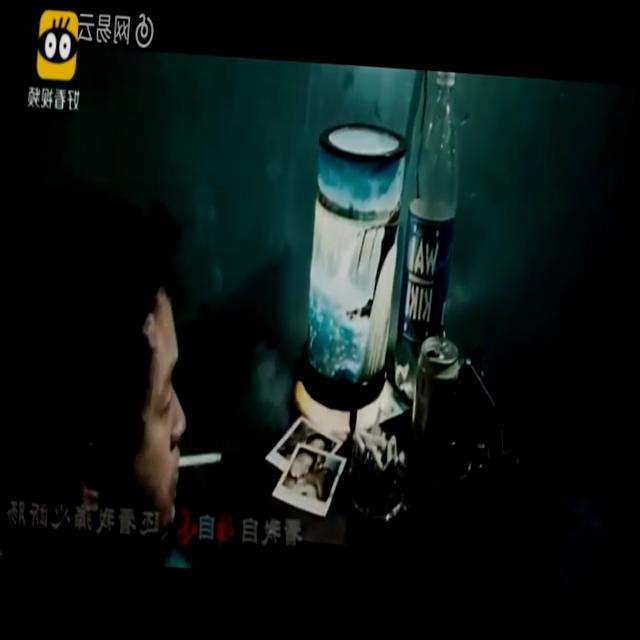cigarette: (178, 442, 224, 474)
